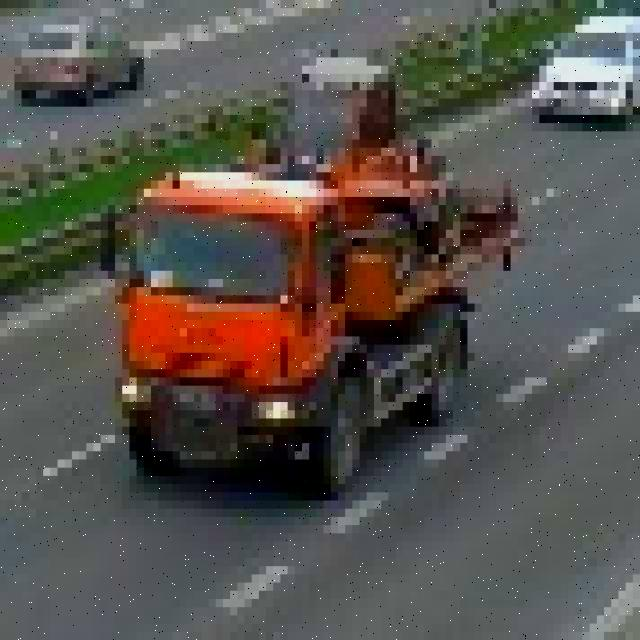truck: (93, 41, 525, 492)
